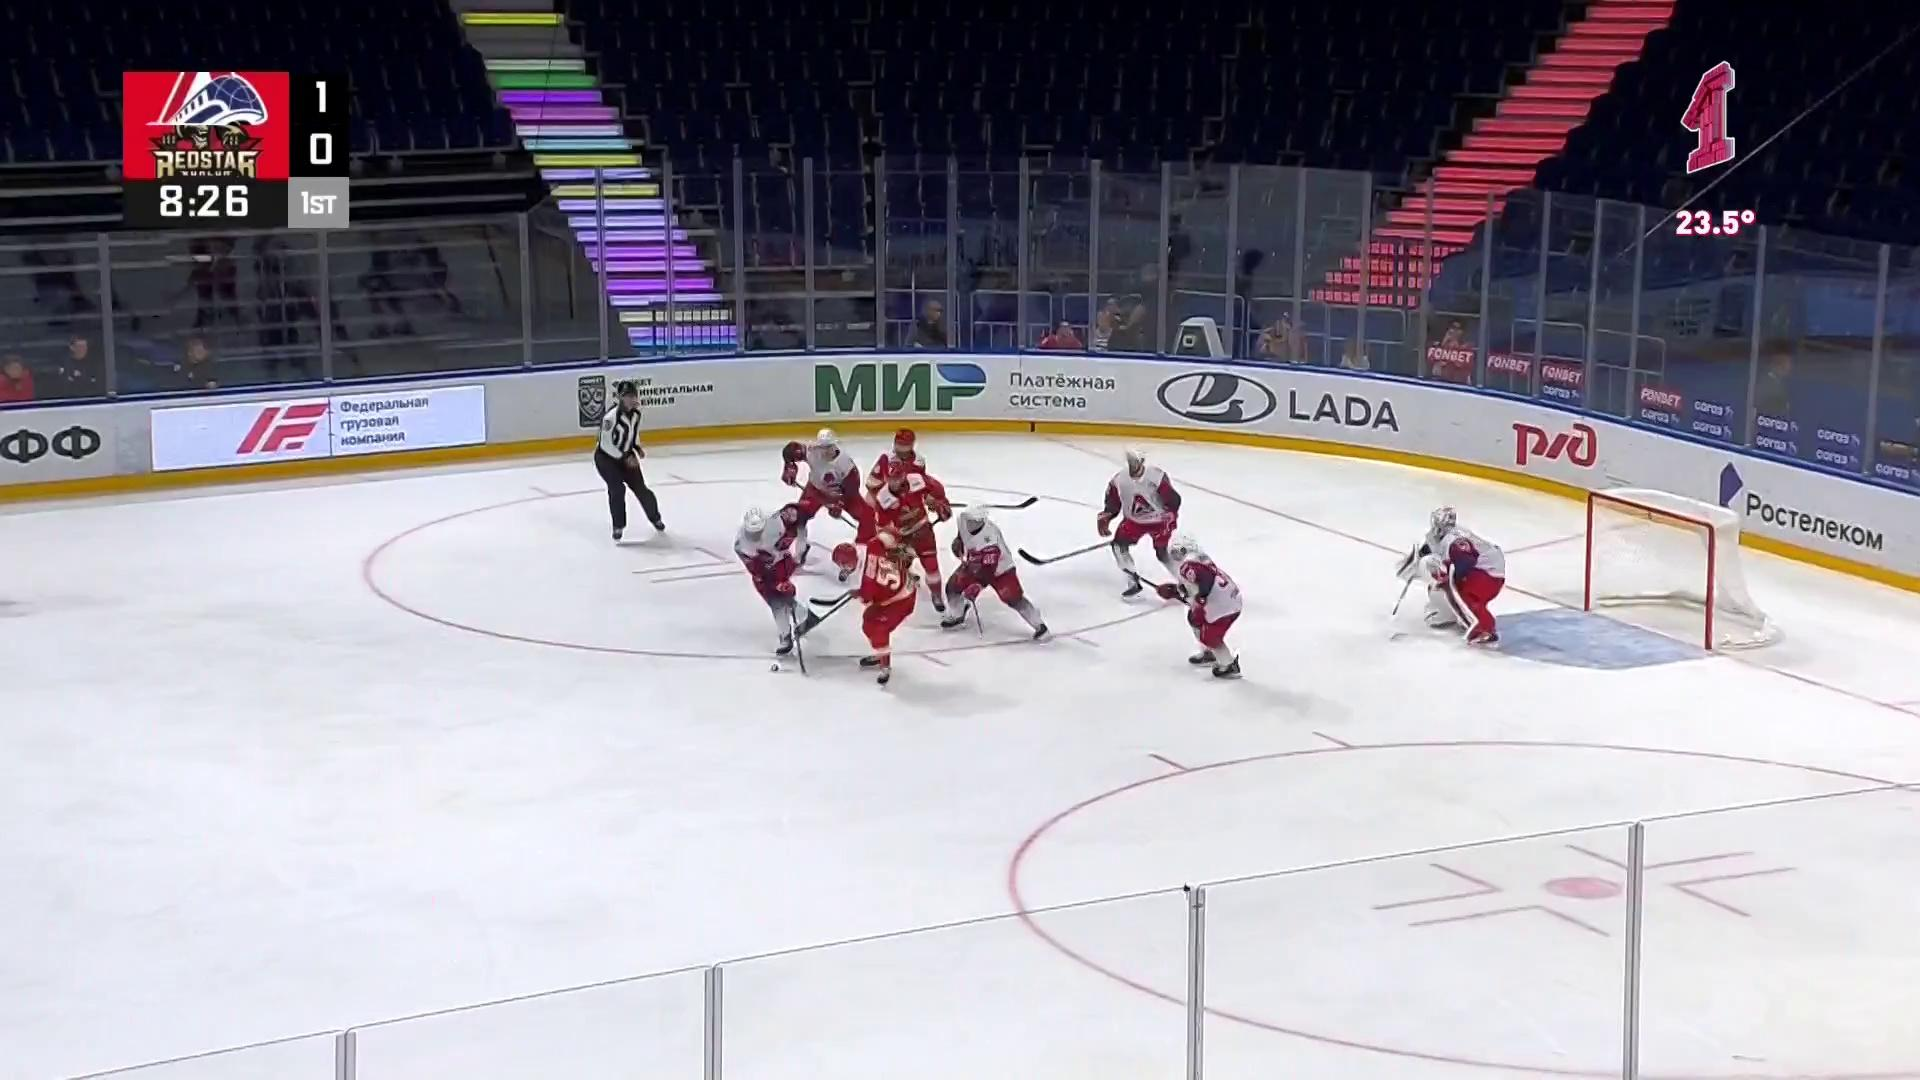ball: (769, 665, 779, 673)
